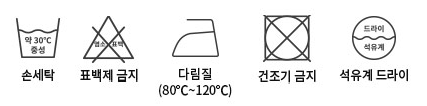KR_dry_clean_petroleum: (347, 11, 398, 62)
KR_hand_wash_30_neutral: (14, 14, 61, 61)
KR_no_chlorine_bleach: (78, 13, 138, 64)
KR_no_tumble_dry: (260, 12, 314, 65)
